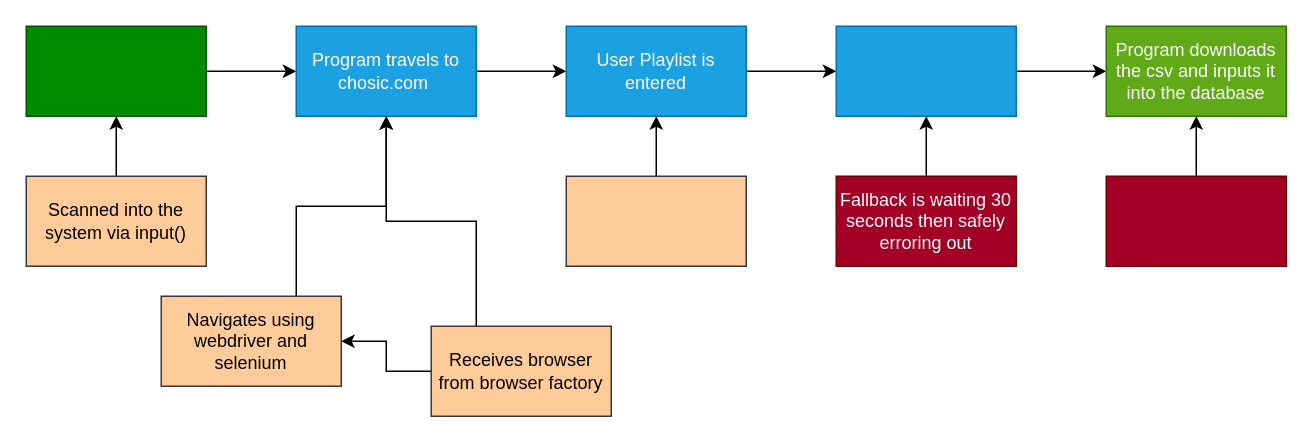
Some shapes in this 1313 by 443 pixel diagram are drawn without their labels. Each missing label, with the centre of its shape:
Fallback is not seeing the temporary download file and safely erroring out: pixel 1195 220
Identified elements by HTML Id: pixel 655 220
Program waits for chosic to create a csv of metadata: pixel 925 70
User Enters Spotify playlist link: pixel 115 70
